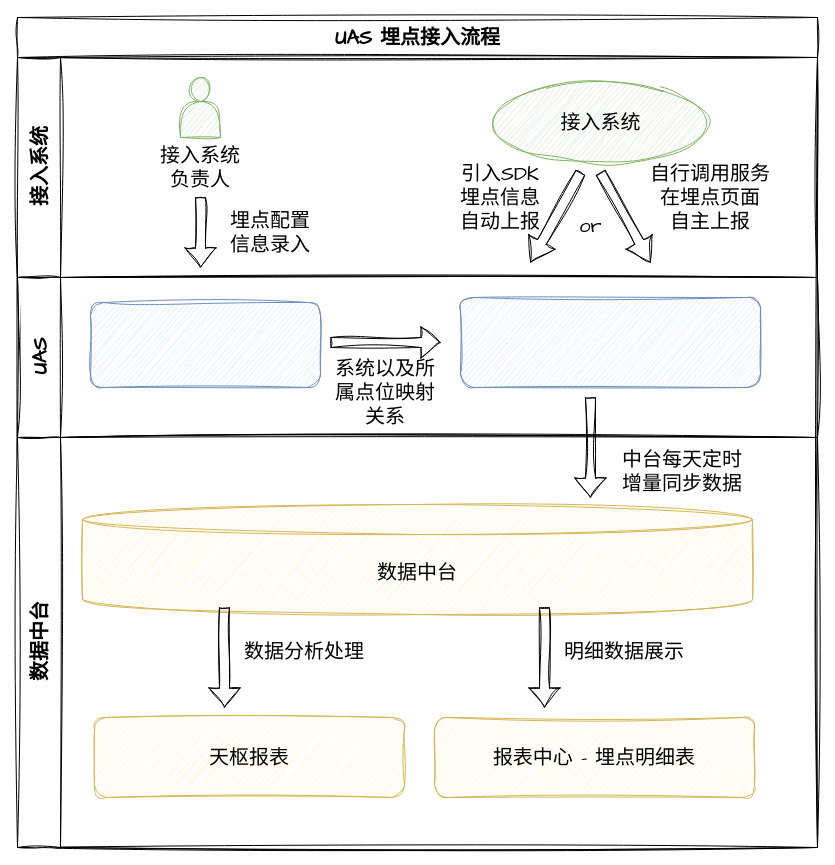
Some shapes in this 835 by 865 pixel diagram are drawn without their labels. Here are the shapes that lost their labels. From the top down, the centre of each, then its label:
At pixel 205 345: "UAS管理系统".
At pixel 610 342: "UAS埋点接收服务".
